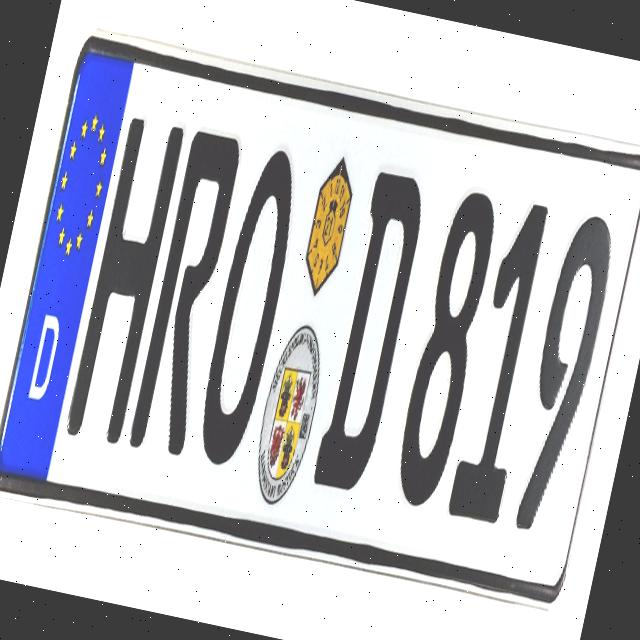Allemagne: (0, 48, 135, 493)
EU: (0, 39, 640, 592)
